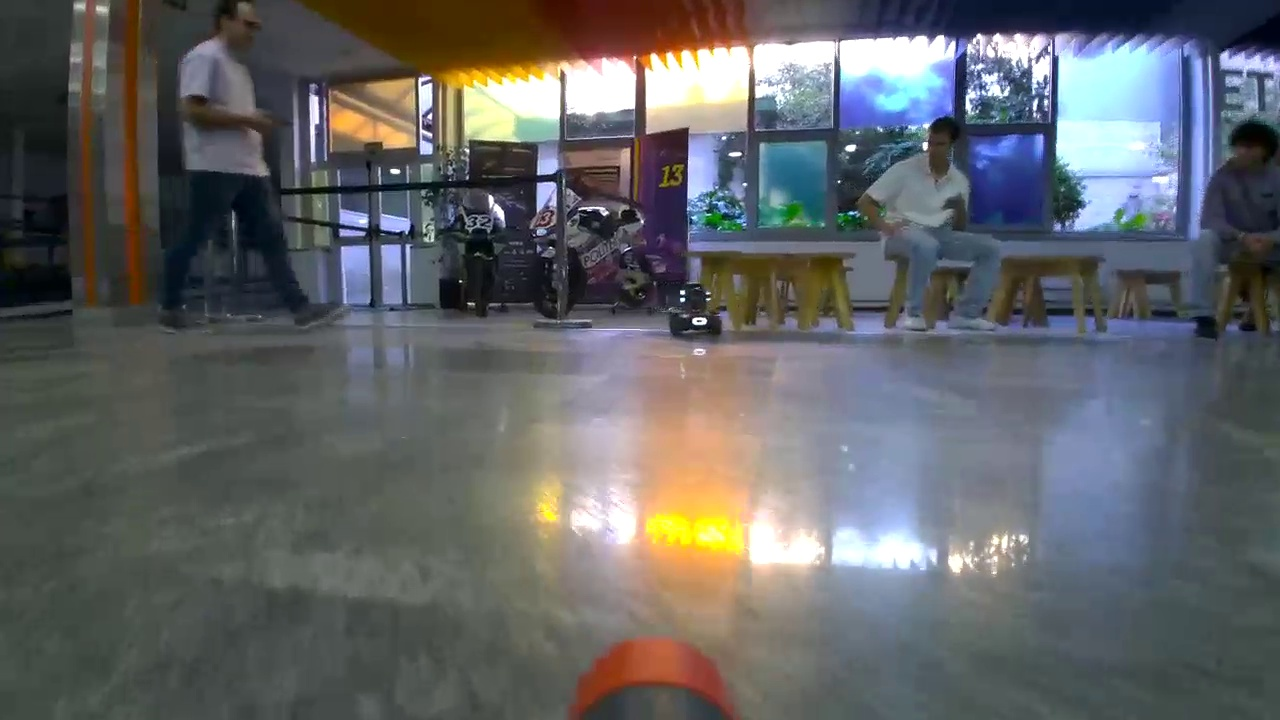robot: (667, 282, 722, 335)
